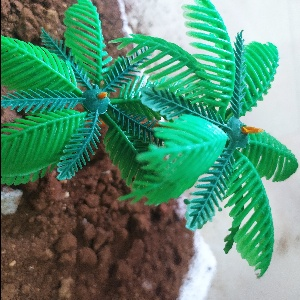plant: (2, 2, 300, 271)
